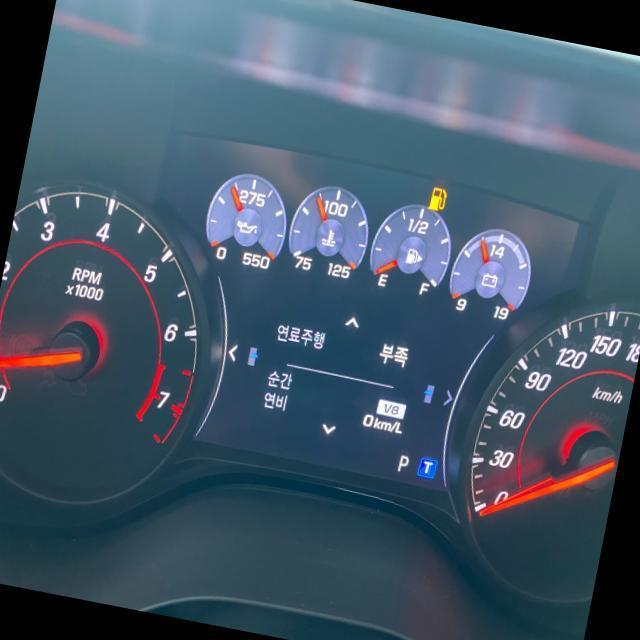Low fuel level: (426, 184, 448, 213)
